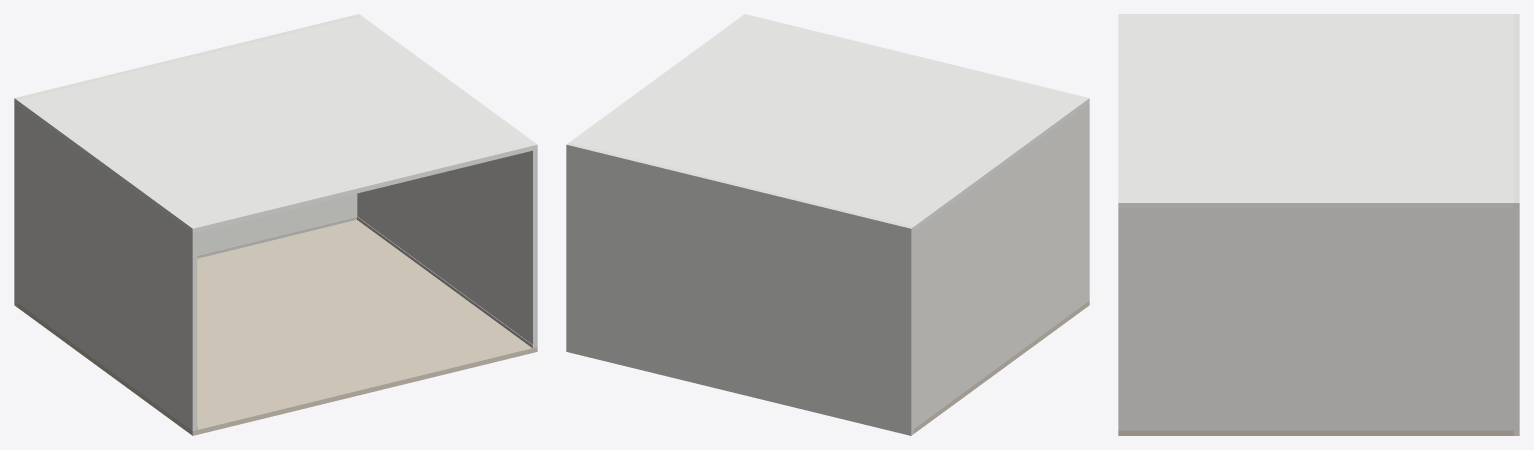
File: room_shell_gallery.glb
The picture shows the model from 3 angles, left to right: view 1: azimuth 30°, elevation 25°; view 2: azimuth 150°, elevation 25°; view 3: azimuth 270°, elevation 25°; orthographic projection. The views are drawn at different scales.
Visible parts, largest first — view 1: Ceiling.001, Floor.001, WallLeft, WallRight, WallBack.001, SkirtRight, SkirtBack; view 2: WallBack.001, Ceiling.001, WallLeft, Floor.001; view 3: WallRight, Ceiling.001, WallBack.001, Floor.001.
Part boxes in pixels (x1=…): Ceiling.001: x1=17, y1=16, x2=537, y2=233; Floor.001: x1=17, y1=220, x2=537, y2=435; WallLeft: x1=17, y1=105, x2=197, y2=430; WallRight: x1=357, y1=149, x2=537, y2=347; WallBack.001: x1=14, y1=14, x2=361, y2=306; SkirtRight: x1=357, y1=216, x2=532, y2=348; SkirtBack: x1=197, y1=216, x2=356, y2=258; WallBack.001: x1=566, y1=142, x2=913, y2=435; Ceiling.001: x1=569, y1=14, x2=1089, y2=231; WallLeft: x1=913, y1=103, x2=1089, y2=428; Floor.001: x1=913, y1=301, x2=1089, y2=433; WallRight: x1=1118, y1=208, x2=1513, y2=430; Ceiling.001: x1=1118, y1=14, x2=1513, y2=208; WallBack.001: x1=1513, y1=14, x2=1519, y2=435; Floor.001: x1=1118, y1=430, x2=1513, y2=435.
Bounding box in the file's own units: 18.7 × 10.74 × 16.77.
